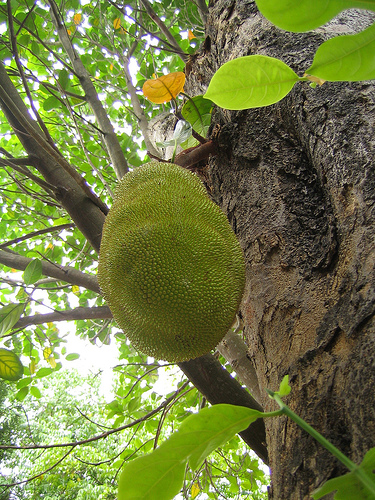jackfruit: (97, 162, 248, 363)
